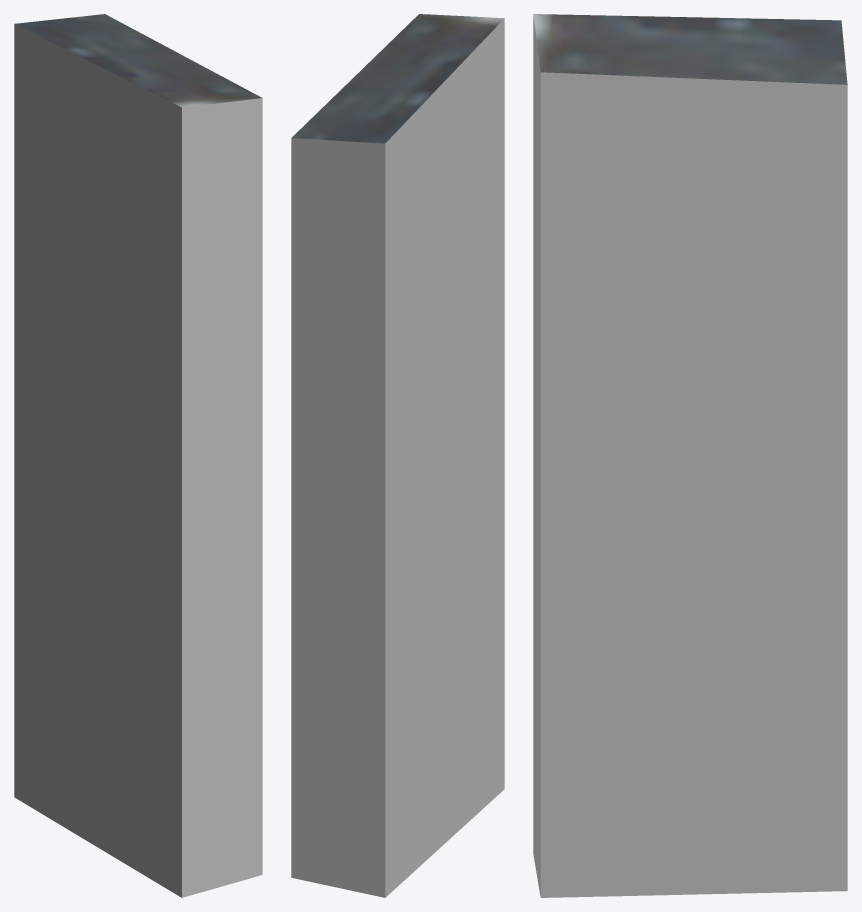
File: DEBW_0010007THX3.gltf
3 renders of one model, left to right at view 1: azimuth 30°, elevation 25°; view 2: azimuth 150°, elevation 25°; view 3: azimuth 270°, elevation 25°, orthographic. The views are drawn at different scales.
Visible parts, largest first — view 1: Z_UP; view 2: Z_UP; view 3: Z_UP.
Part boxes in pixels (x1,y1,x2,y2): Z_UP: [14, 14, 262, 897]; Z_UP: [291, 14, 504, 897]; Z_UP: [533, 14, 847, 897].
Size of the model in its own units: 1.94 by 13.72 by 4.65.
Materials: 2 (1 with a texture image).
